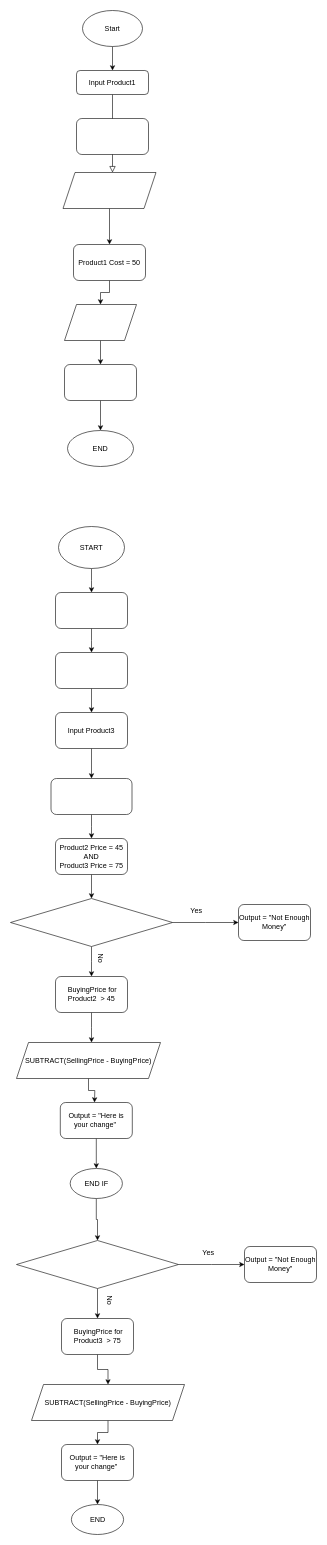
Some shapes in this 327 by 1545 pixel diagram are drawn without their labels. The centre of each missing label's shape, as x and y in pixels:
BuyingPrice for Product2 < 45: point (91, 922)
BuyingPrice for Product3 < 75: point (97, 1264)
Input Product2: point (91, 610)
OUTPUT = Hair Spray 50: point (100, 382)
Print Product1 + Product1 Cost: point (100, 322)
Product1 = Hair Spray: point (112, 136)
Product2 = Shampoo: point (91, 670)
Product3 = Conditioner: point (91, 796)
READ Product1 Cost: point (109, 190)
